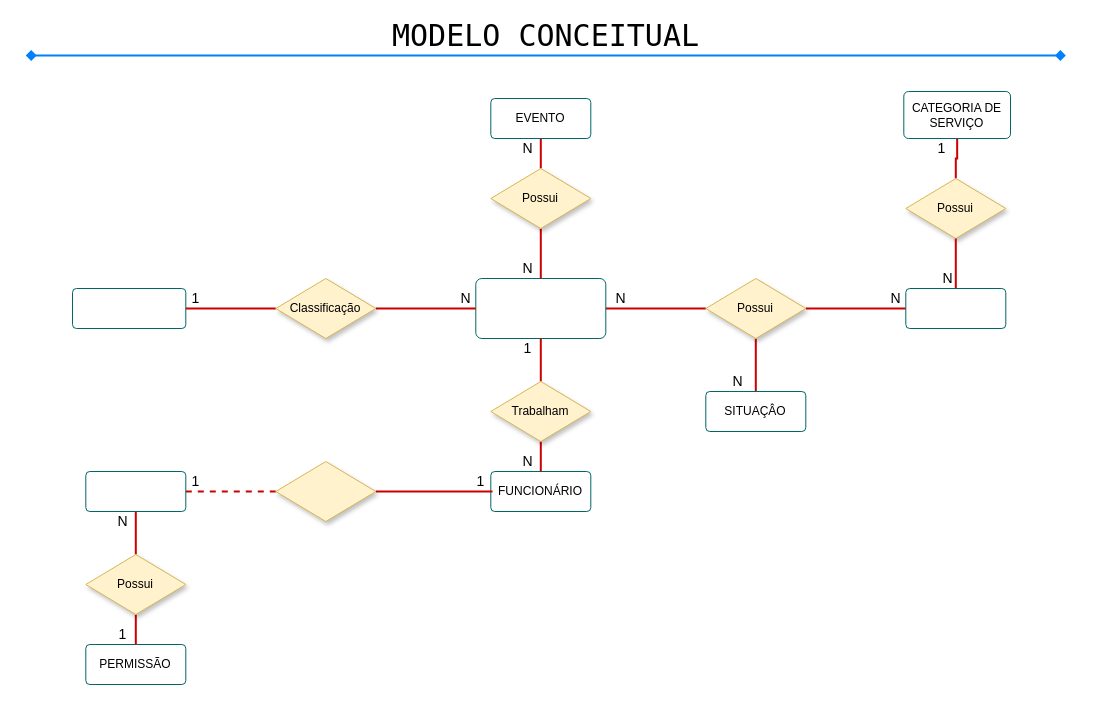
The diagram is 1093 pixels wide and 702 high, and some of its shapes have lost their labels. The shapes that lost their labels are listed below. From the top down, each one's centre as x and y in pixels, then its label:
At point (129, 308): "TIPO DE LOCAL".
At point (540, 308): "LOCAL".
At point (955, 308): "SERVIÇO".
At point (135, 491): "USUARIO".
At point (326, 492): "PERTENCE".
